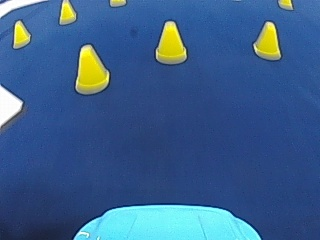cone: (73, 43, 109, 94), (154, 19, 187, 64), (253, 19, 281, 59), (11, 19, 30, 48), (57, 0, 76, 24), (278, 0, 292, 10)
